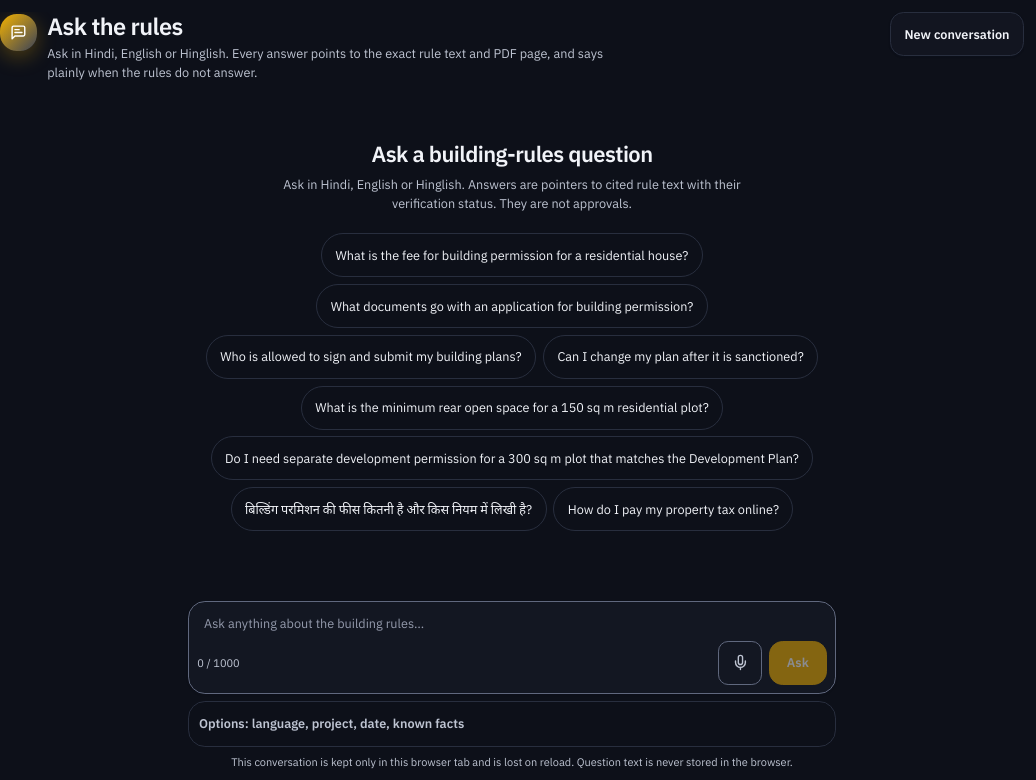
Scenario: Ask › not_established: grey state, no evidence list
Type "how do I pay property tax" into the text box named "Your question" at [512, 624], box top-left (194, 607), bottom-right (830, 641)
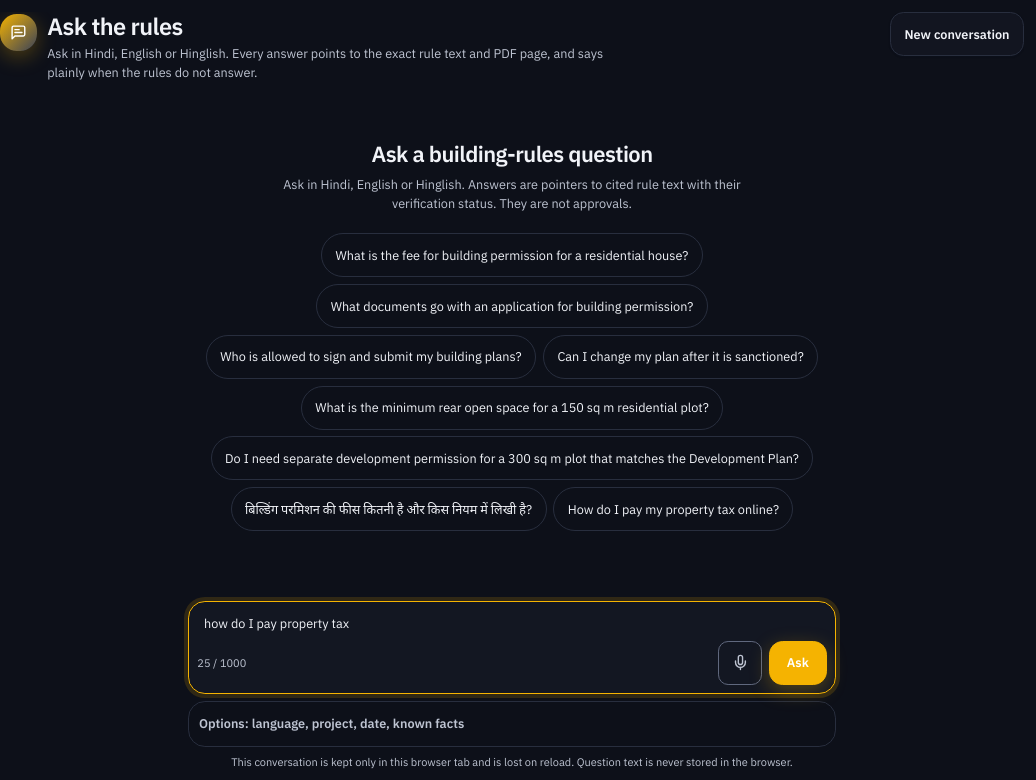
Click the button "Ask" at [798, 663], box top-left (769, 641), bottom-right (827, 685)
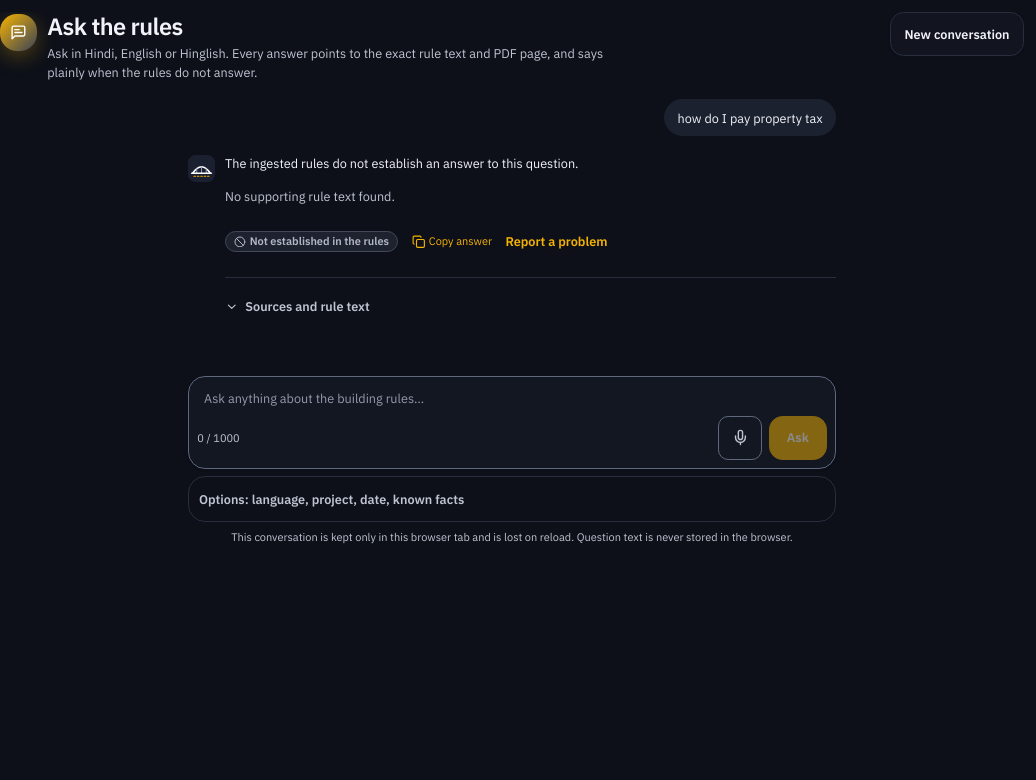
Expected: the text "Not established in the rules" is shown, top-left (250, 234), bottom-right (389, 250)
Expected: the text "No supporting rule text found." is shown, top-left (225, 188), bottom-right (395, 204)
